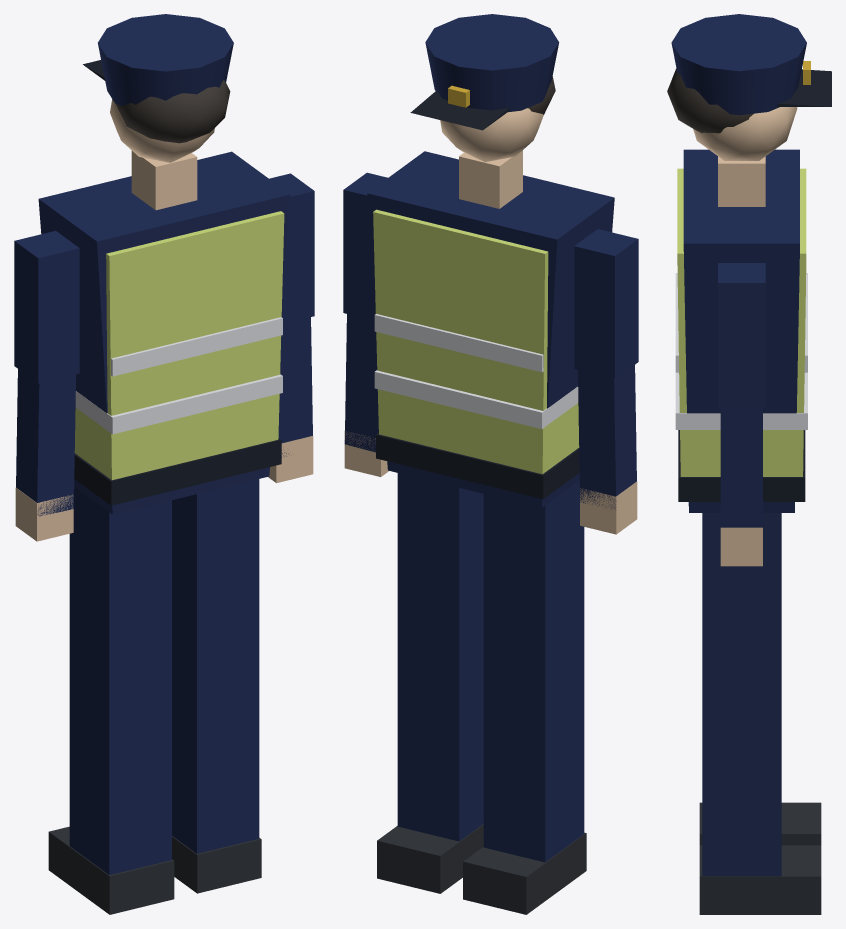
File: cop.glb
3 renders of one model, left to right at view 1: azimuth 30°, elevation 25°; view 2: azimuth 150°, elevation 25°; view 3: azimuth 270°, elevation 25°, orthographic.
Visible parts, largest first — view 1: Body, LegL, LegR; view 2: Body, LegL, LegR; view 3: Body, LegR, LegL.
Part boxes in pixels (bbox=[...]): Body: bbox=[14, 14, 314, 541]; LegL: bbox=[48, 487, 174, 914]; LegR: bbox=[172, 479, 261, 893]; Body: bbox=[343, 14, 638, 534]; LegL: bbox=[463, 480, 586, 914]; LegR: bbox=[377, 473, 483, 893]; Body: bbox=[667, 14, 831, 566]; LegR: bbox=[699, 513, 821, 914]; LegL: bbox=[699, 802, 821, 845].
Bounding box in the file's own units: 0.6 × 1.74 × 0.3113.
